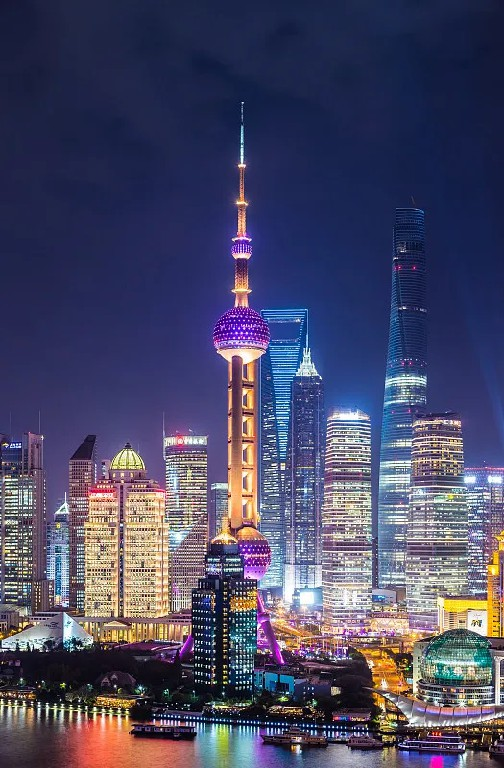Oriental: (212, 102, 285, 662)
